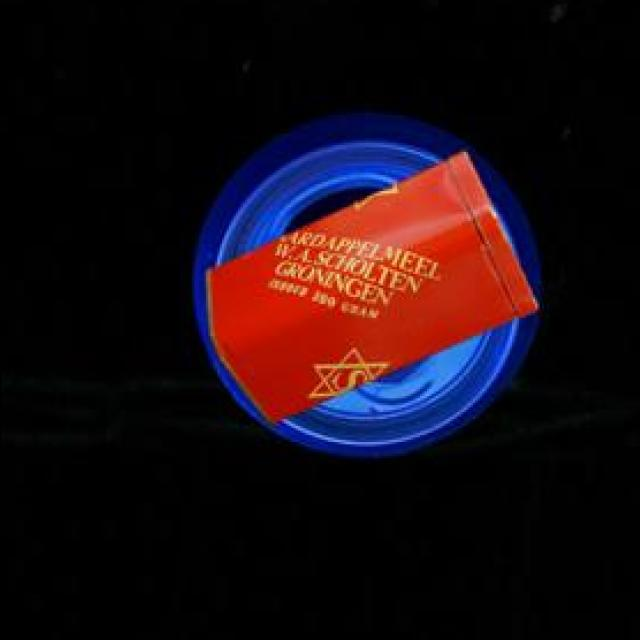logam: (197, 109, 542, 452), (208, 148, 540, 422)
